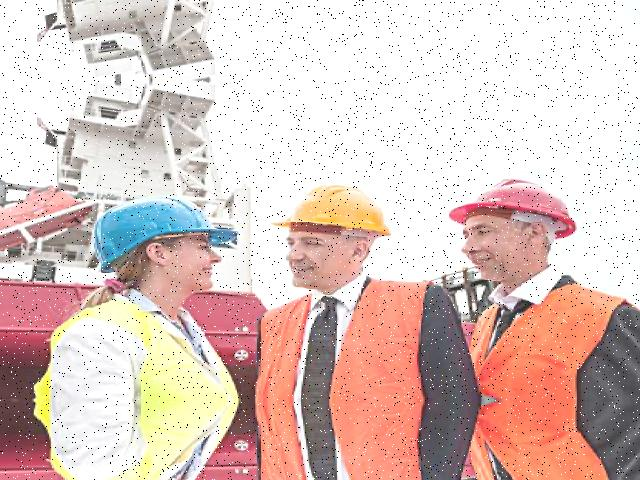Helmet: (81, 190, 239, 274), (443, 174, 583, 246), (263, 177, 398, 244)
